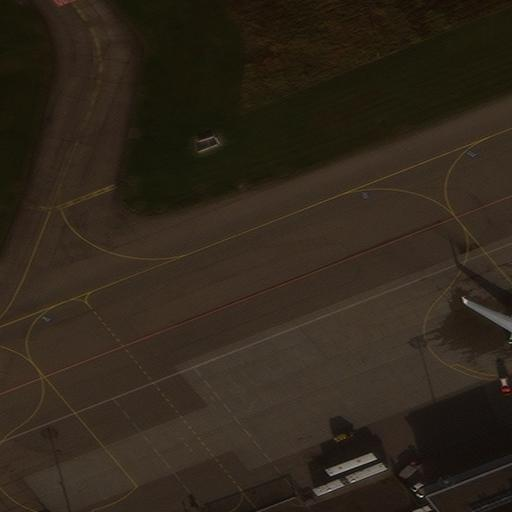Medium Civil Transport: (462, 291, 512, 370)
